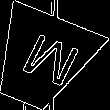M_SW: (7, 28, 76, 93)
